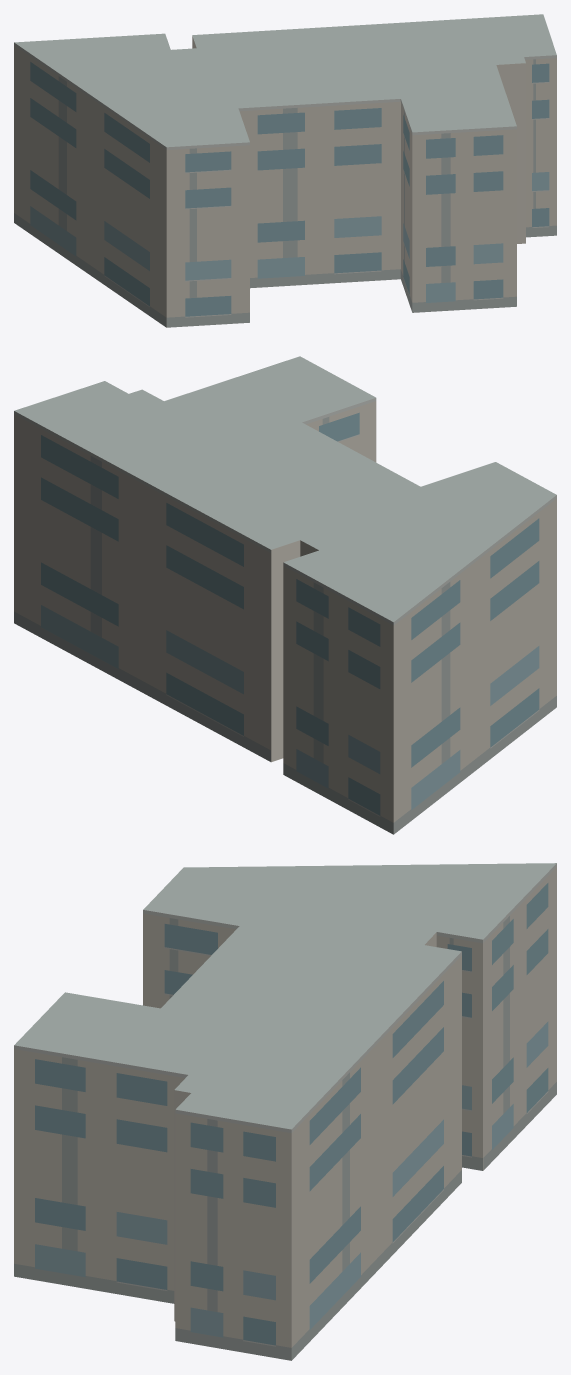
Rendered from survey-upis-32747692.glb.
3 views of the same model, one above another, from view 1: azimuth 30°, elevation 25°; view 2: azimuth 150°, elevation 25°; view 3: azimuth 270°, elevation 25° (orthographic). The views are drawn at different scales.
Visible parts, largest first — view 1: survey-upis-32747692.tmp; view 2: survey-upis-32747692.tmp; view 3: survey-upis-32747692.tmp.
Boxes of the visible parts, x1,y1,x2,y2 form: survey-upis-32747692.tmp: (14, 14, 556, 327); survey-upis-32747692.tmp: (14, 356, 556, 834); survey-upis-32747692.tmp: (14, 863, 556, 1360).
Size of the model in its own units: 37.68 by 15.25 by 32.45.
